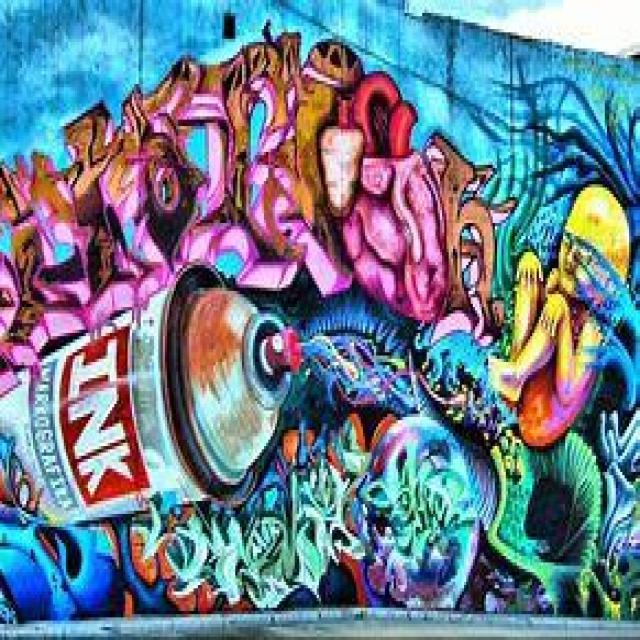nonspitting: (0, 29, 640, 624)
